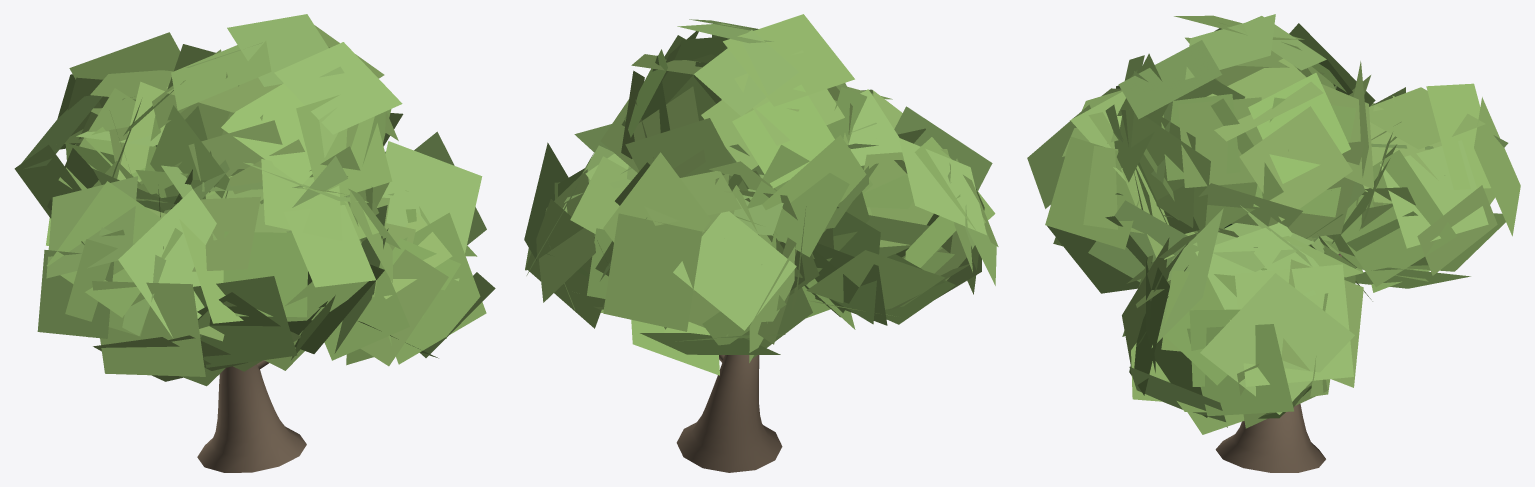
File: tree_fruit_2.glb
3 renders of one model, left to right at view 1: azimuth 30°, elevation 25°; view 2: azimuth 150°, elevation 25°; view 3: azimuth 270°, elevation 25°, orthographic. The views are drawn at different scales.
Parts seen in each view (by area): view 1: Tree; view 2: Tree; view 3: Tree.
Boxes of the visible parts, <box> form: Tree: <box>14,14,495,472</box>; Tree: <box>524,14,998,472</box>; Tree: <box>1027,14,1520,472</box>.
Size of the model in its own units: 5.33 by 4.92 by 5.05.
